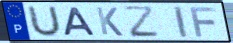A: (63, 6, 98, 37)
F: (188, 6, 218, 38)
I: (172, 5, 190, 39)
K: (95, 6, 125, 38)
U: (27, 4, 62, 38)
Z: (122, 5, 162, 39)
